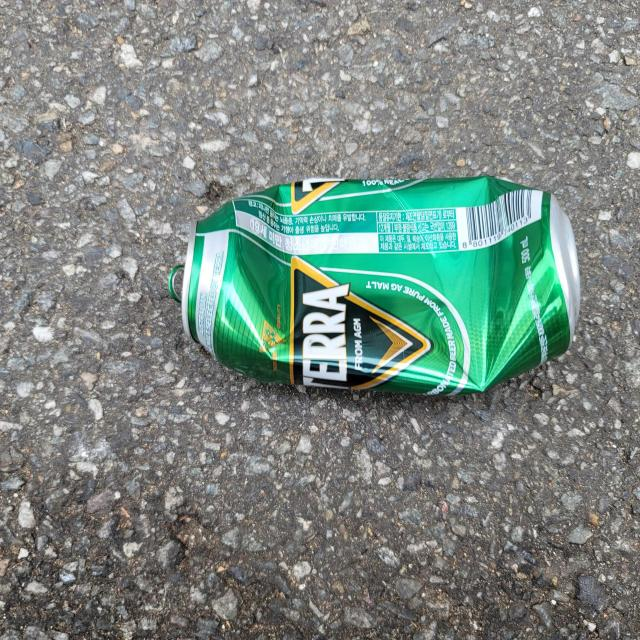can: (168, 176, 582, 395)
